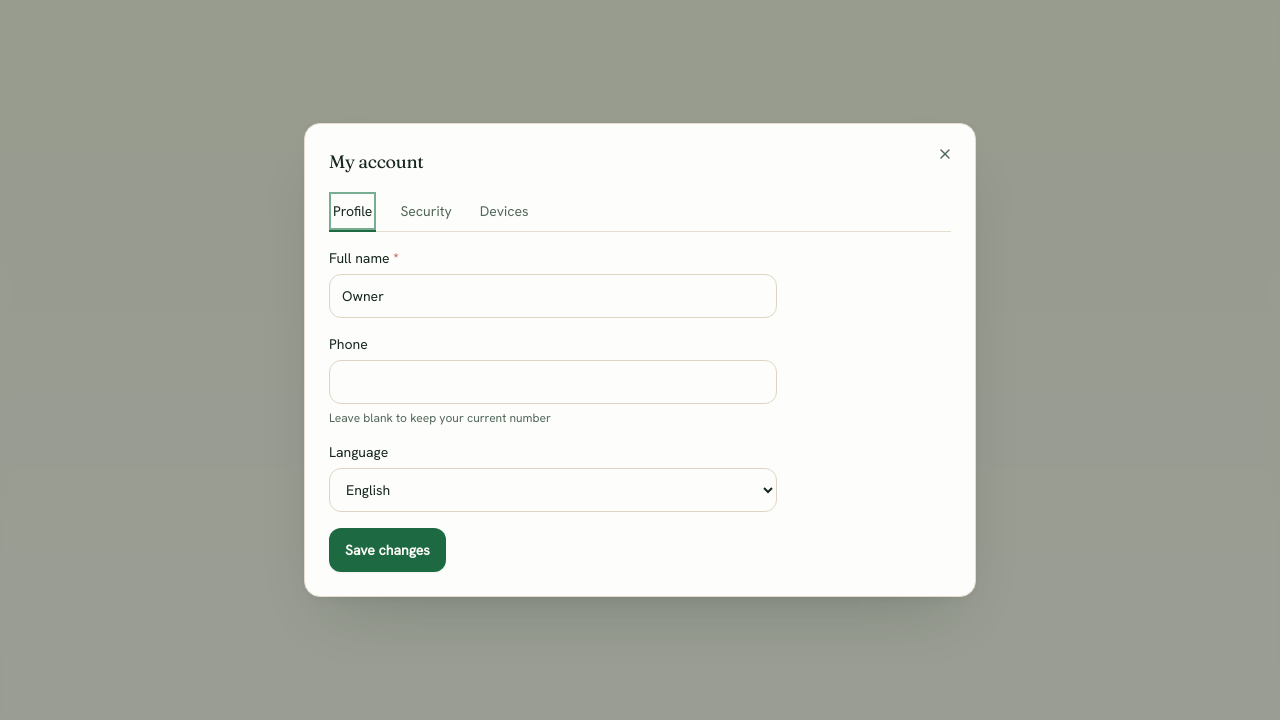
Test case: AccountDialog › PATCHes only the dirty profile fields and toasts success
Replace the text in the field labelled "Full name *" with "Owner Two" at point(553, 296), box [329, 274, 777, 318]
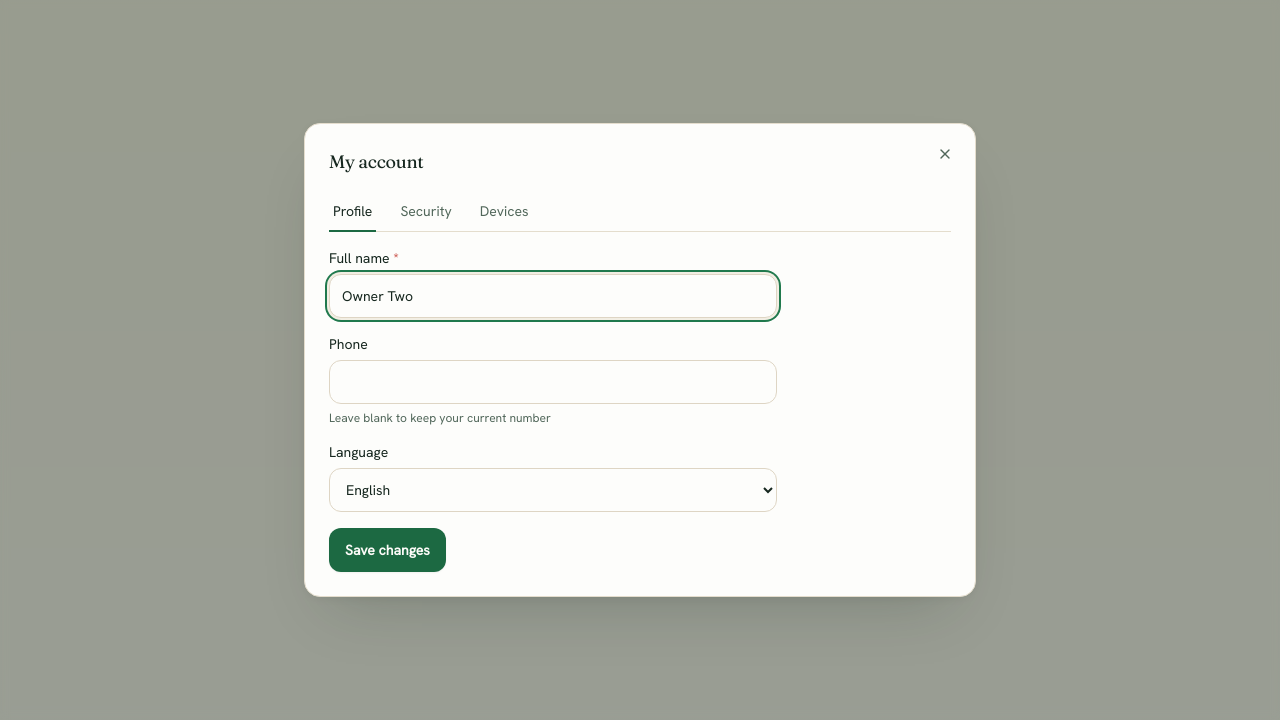
Click the button "Save changes" at point(387, 550), box [329, 528, 446, 572]
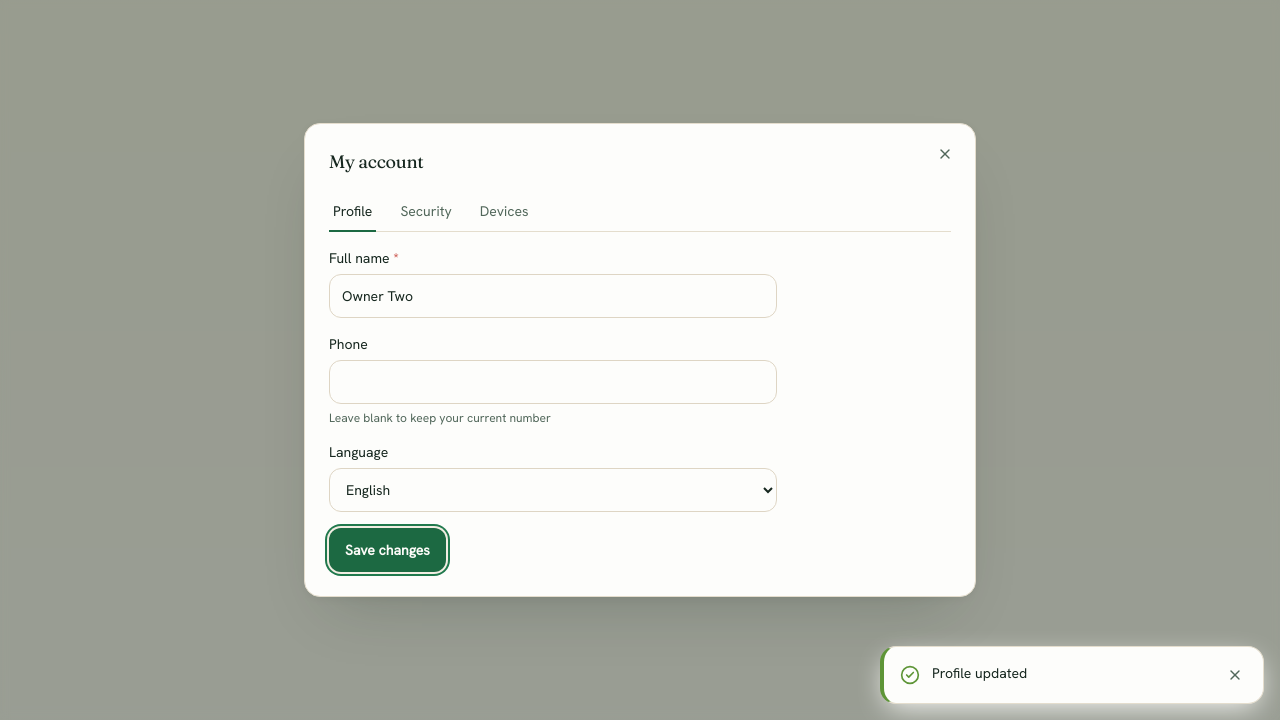
Now the text "Profile updated" is shown, box [932, 664, 1027, 682]
